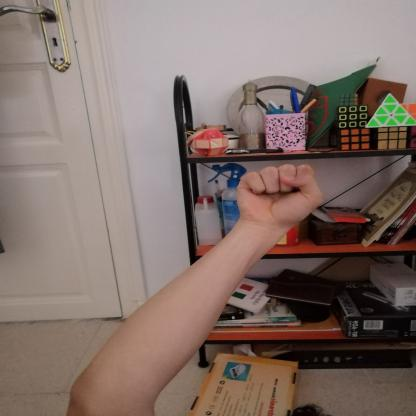SAD: (223, 155, 333, 237)
